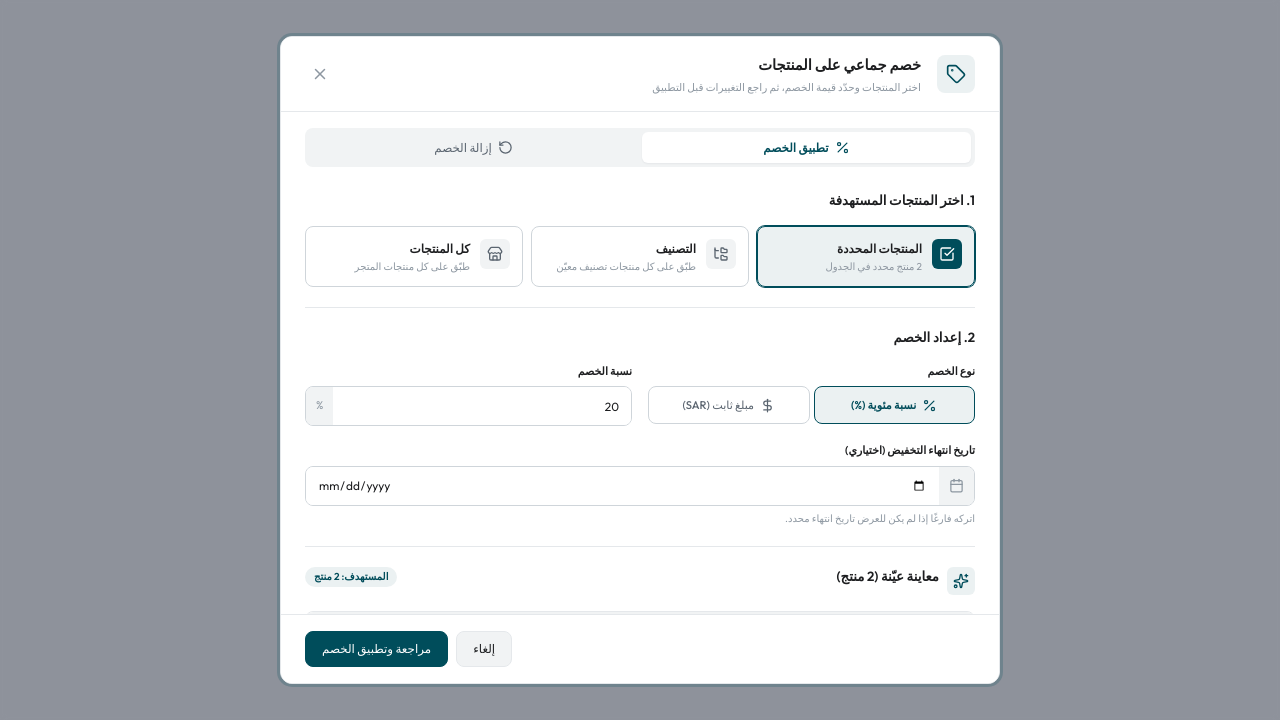
BulkDiscountModal › switches discount type between percentage and fixed
The image size is (1280, 720).
Click the button "مبلغ ثابت (SAR)" at point(729, 405), box [648,386,810,424]
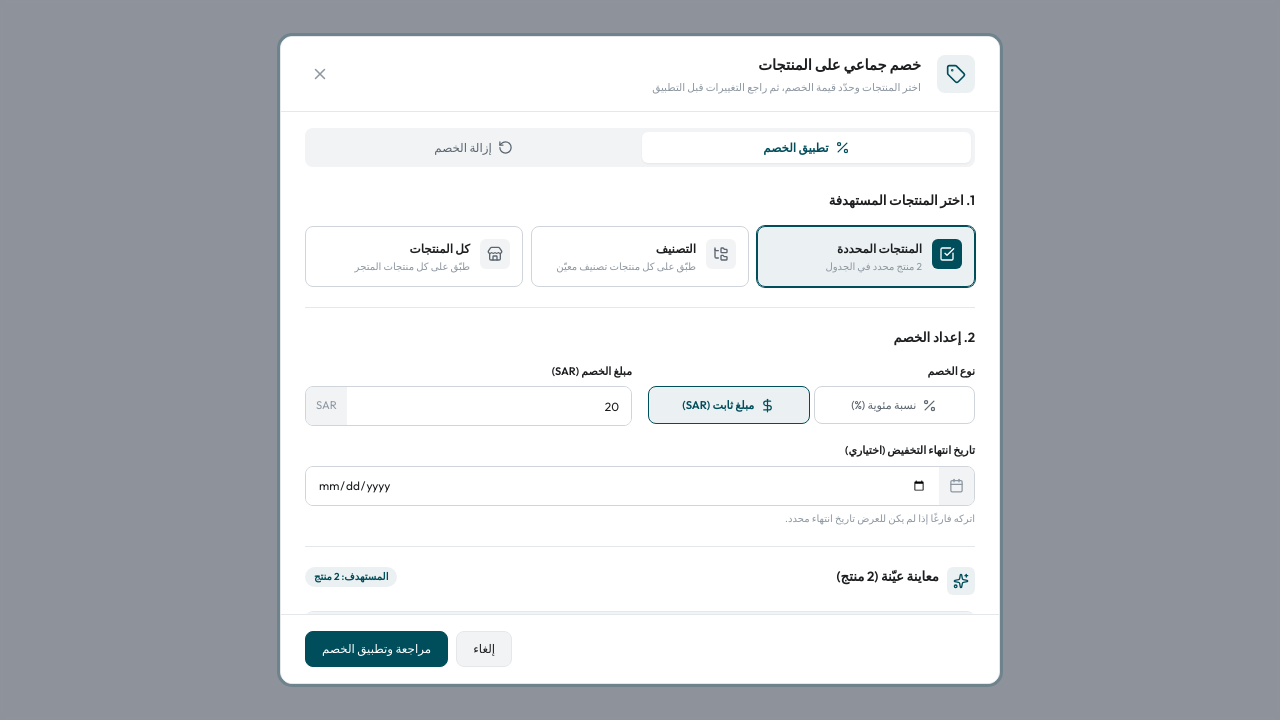
Check: the text "SAR" is shown, box [306,387,347,425]
